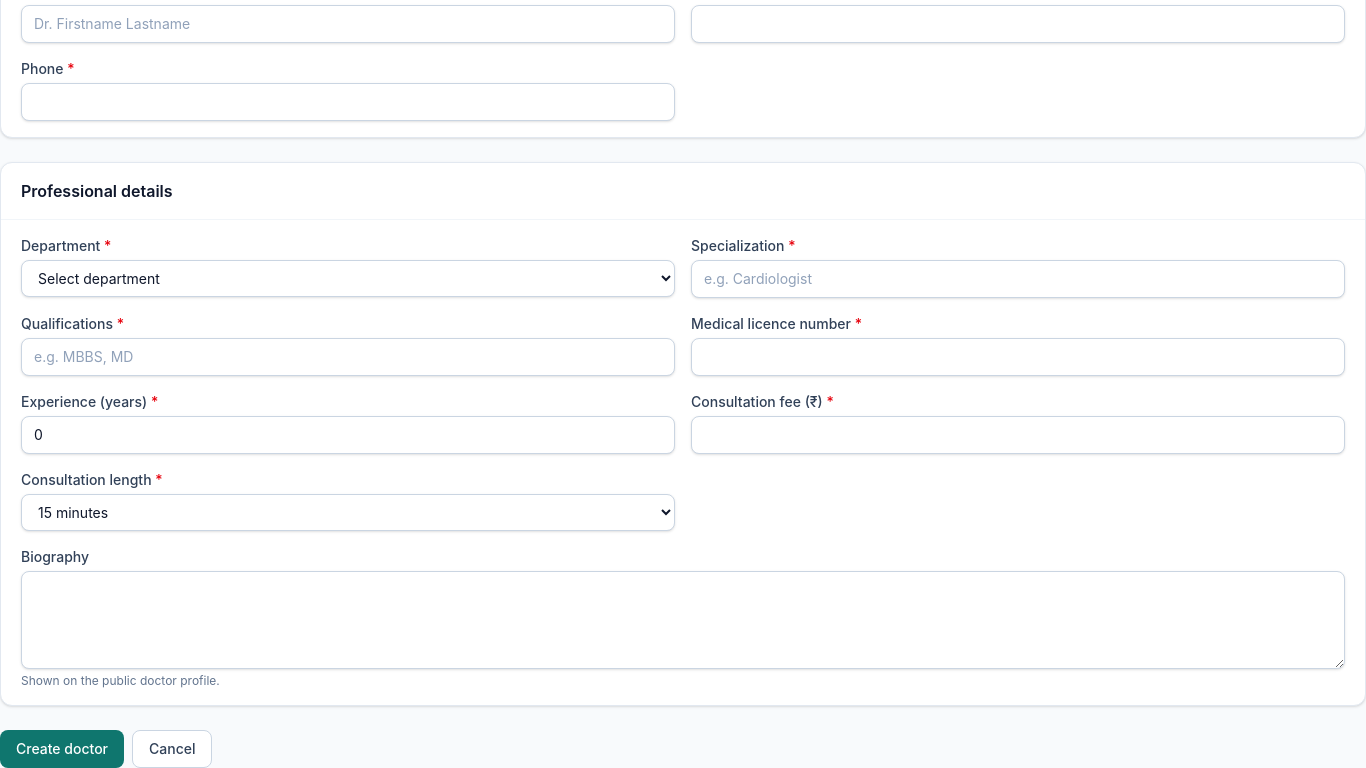
it: Doctor form › offers only active departments and validates required fields
(page scrolled)
Click the button "Create doctor": (62, 749) [0,730,124,767]
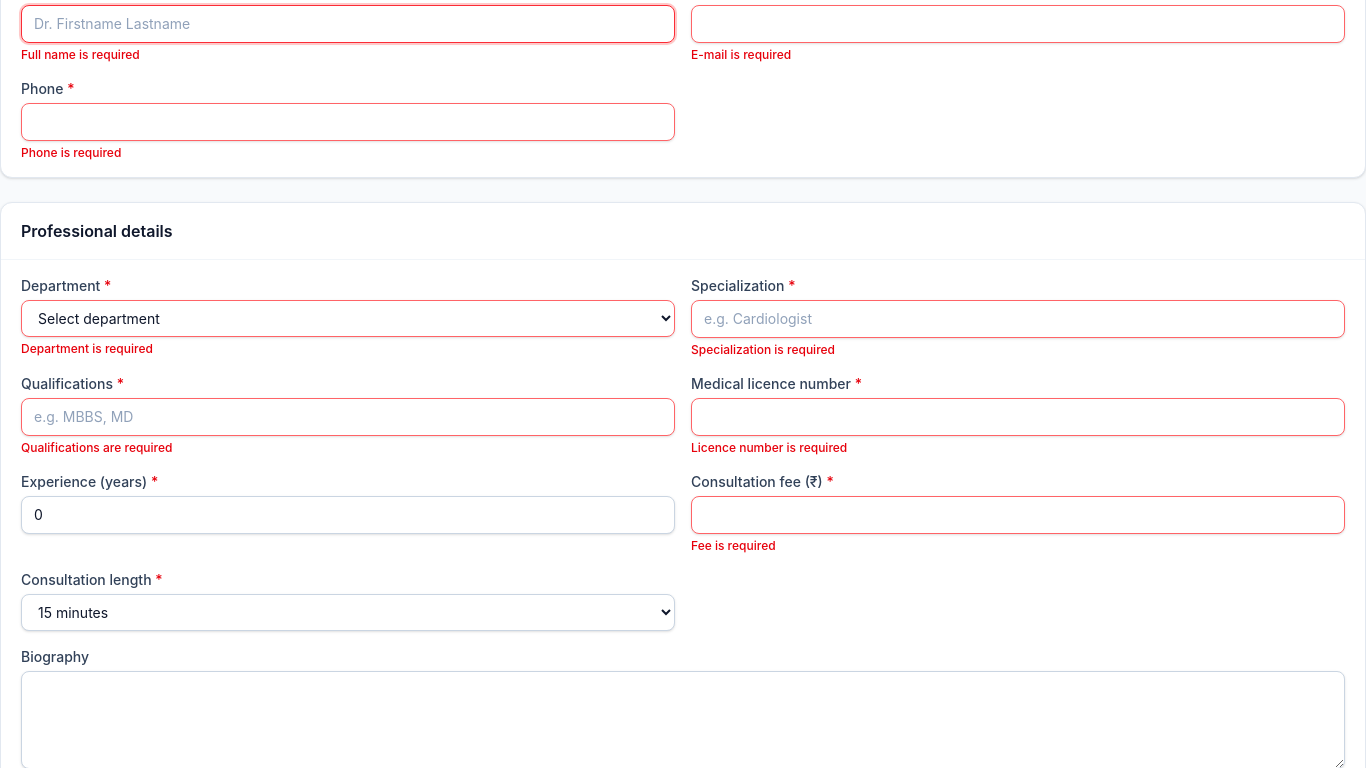
Now the text "Department is required" is shown, box [21,341,153,356]
Now the text "Fee is required" is shown, box [691,538,776,553]
